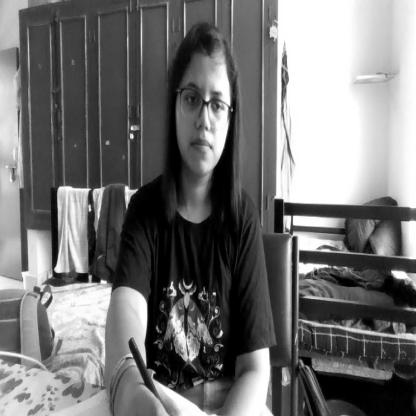Normal: (171, 28, 236, 185)
